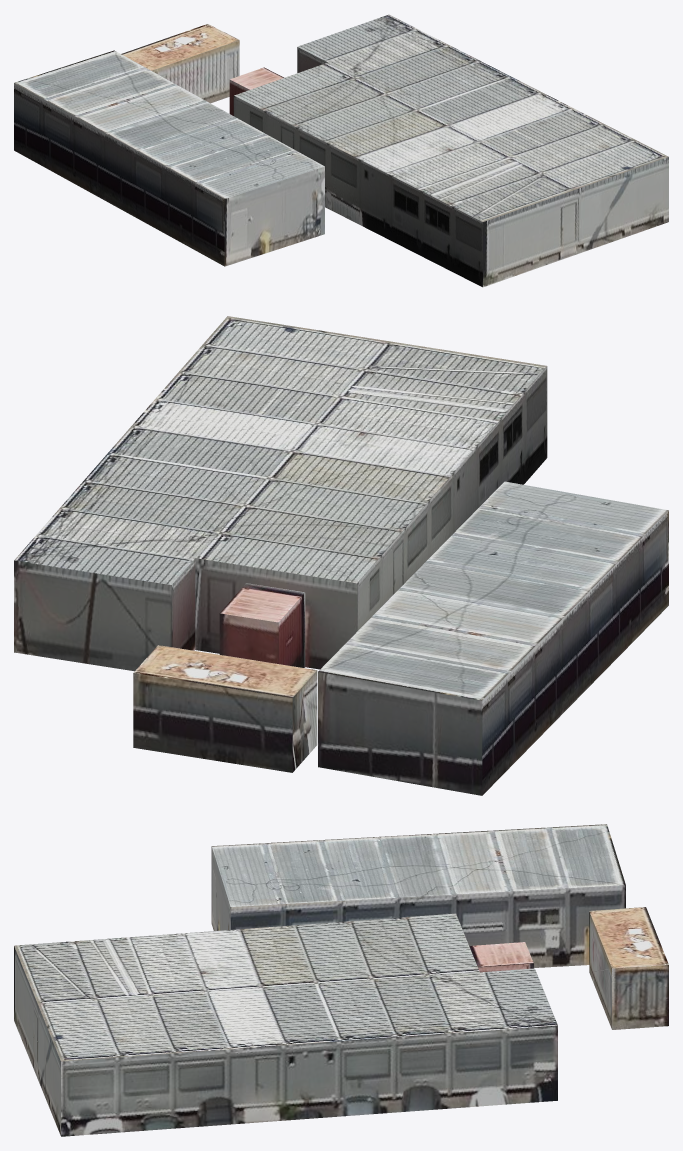
3 views of the same model, one above another, from view 1: azimuth 30°, elevation 25°; view 2: azimuth 150°, elevation 25°; view 3: azimuth 270°, elevation 25° (orthographic). The views are drawn at different scales.
Parts seen in each view (by area): view 1: Z_UP; view 2: Z_UP; view 3: Z_UP.
Part boxes in pixels (box(x1,y1,x2,y2)): Z_UP: box(14, 14, 668, 287); Z_UP: box(14, 316, 668, 795); Z_UP: box(14, 824, 668, 1136).
Bounding box in the file's own units: 24.12 × 3.73 × 28.43.
Materials: 2 (1 with a texture image).
